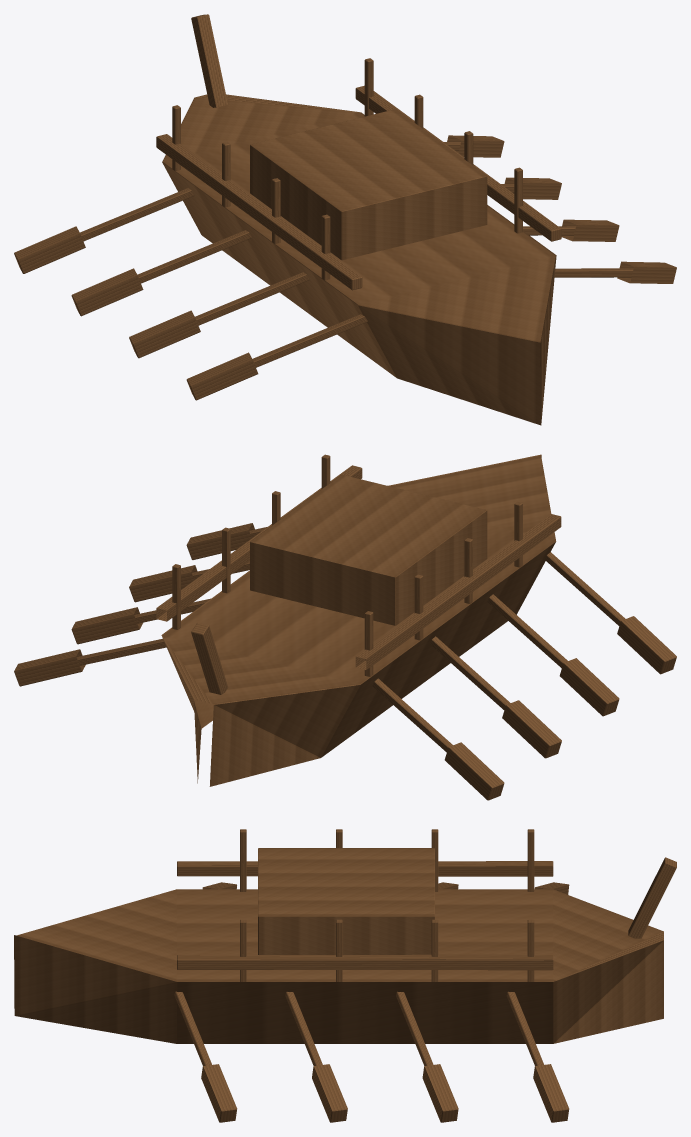
Rendered from unit-BOAT-lod0.glb.
3 views of the same model, one above another, from view 1: azimuth 30°, elevation 25°; view 2: azimuth 150°, elevation 25°; view 3: azimuth 270°, elevation 25° (orthographic). The views are drawn at different scales.
Bounding box in the file's own units: 0.7331 × 0.2334 × 0.8985.
Materials: 1 (1 with a texture image).
